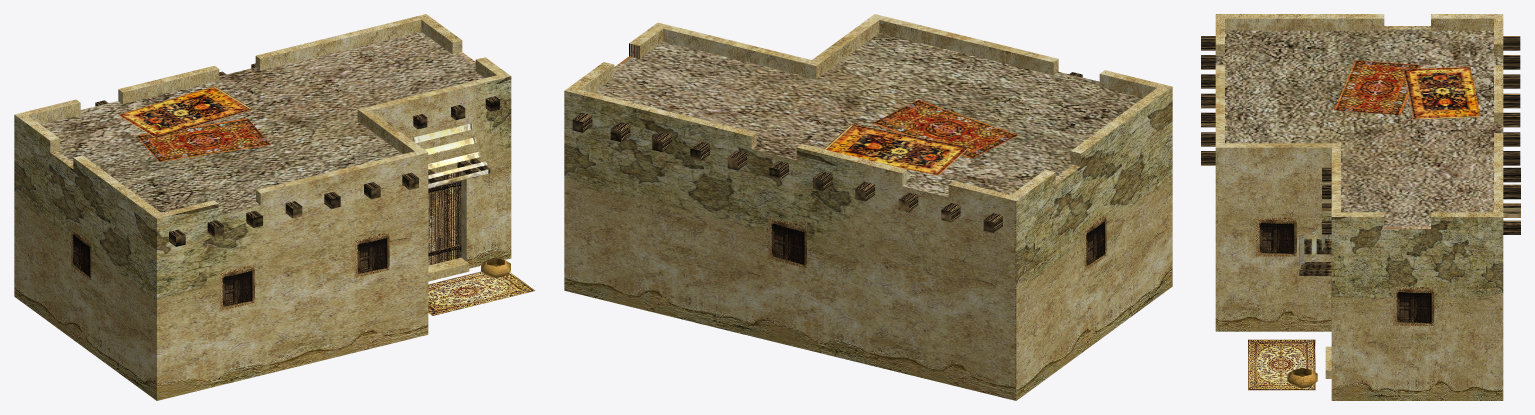
Rendered from pers_alt_build_02.dae.
3 views of the same model, side by side, from view 1: azimuth 30°, elevation 25°; view 2: azimuth 150°, elevation 25°; view 3: azimuth 270°, elevation 25° (orthographic). The views are drawn at different scales.
Visible parts, largest first — view 1: Object11-Pivot; view 2: Object11-Pivot; view 3: Object11-Pivot.
Part boxes in pixels (x1=…): Object11-Pivot: x1=14, y1=14, x2=535, y2=400; Object11-Pivot: x1=564, y1=14, x2=1172, y2=400; Object11-Pivot: x1=1201, y1=14, x2=1520, y2=400.
Bounding box in the file's own units: 17.3 × 11.42 × 7.25.
